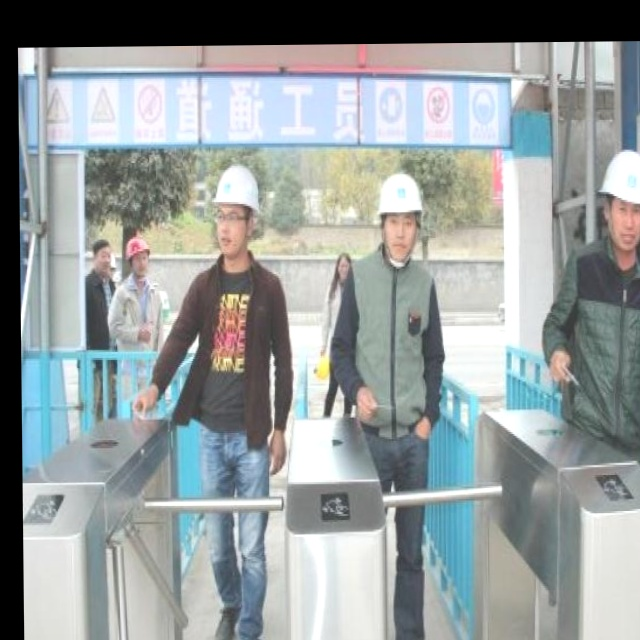Sin_Chaleco: (187, 254, 293, 424), (545, 242, 640, 422), (343, 255, 446, 421)
